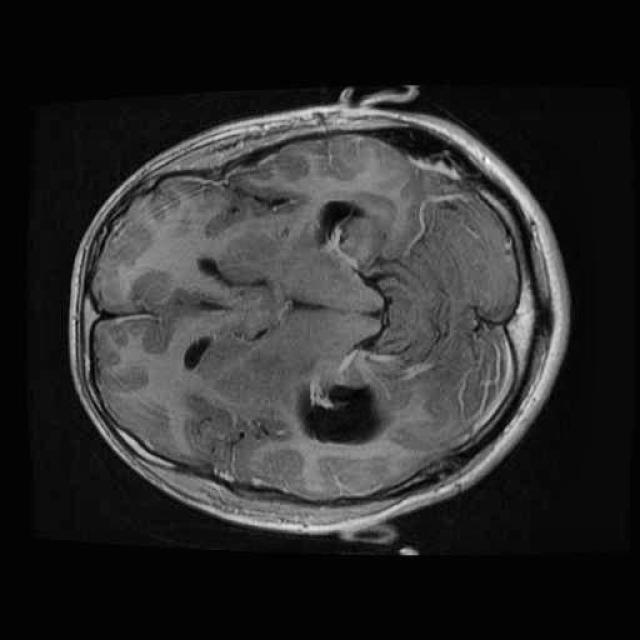Non-Tumor: (285, 369, 398, 461)
